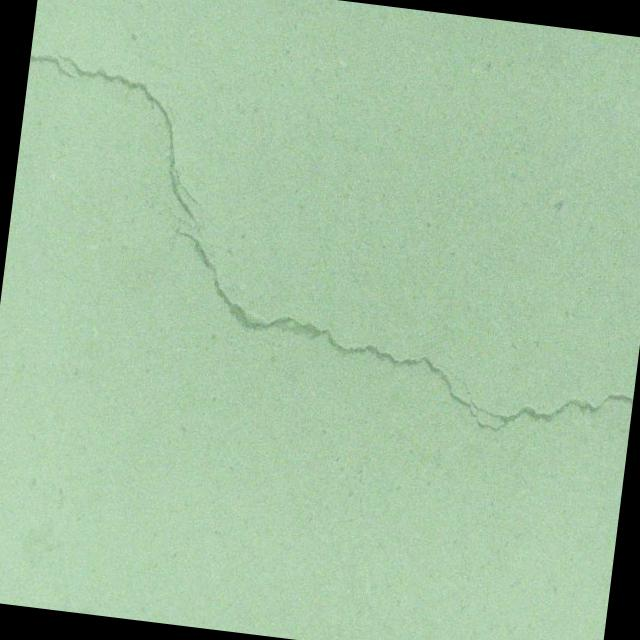crack: (151, 225, 640, 448), (11, 46, 228, 234), (614, 164, 640, 253)
